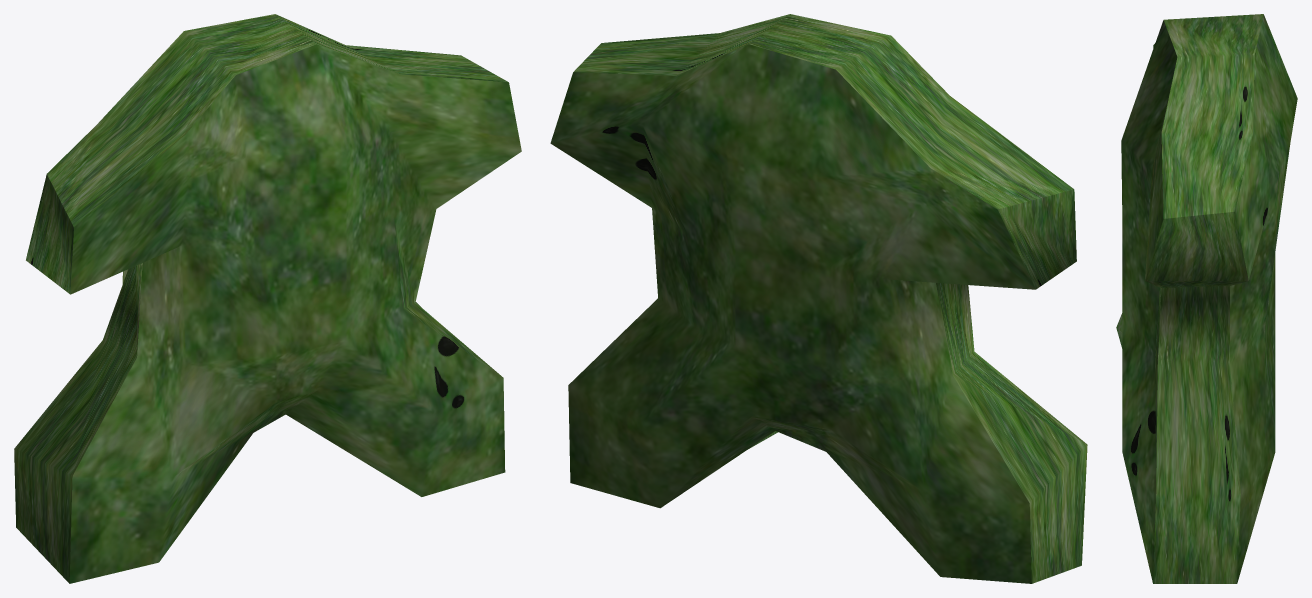
File: Slobber1.FBX
3 renders of one model, left to right at view 1: azimuth 30°, elevation 25°; view 2: azimuth 150°, elevation 25°; view 3: azimuth 270°, elevation 25°, orthographic. The views are drawn at different scales.
Parts seen in each view (by area): view 1: Box001; view 2: Box001; view 3: Box001.
Part boxes in pixels (x1,y1,x2,y2): Box001: (14, 14, 521, 583); Box001: (550, 14, 1087, 583); Box001: (1116, 14, 1297, 583).
Bounding box in the file's own units: 48.8 × 48.19 × 17.61.
Materials: 1 (1 with a texture image).
